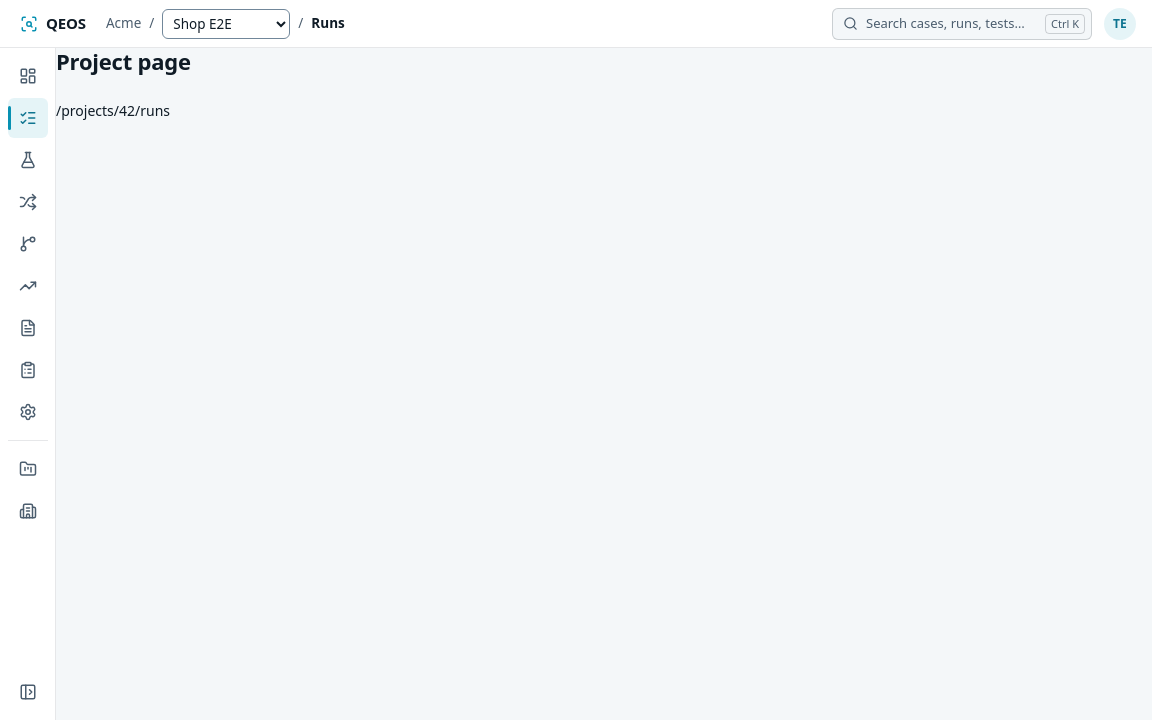
it: keyboard navigation › arrows, Home and End move the active option; Enter opens it
Click the button "Search cases, runs, tests… Ctrl K" at (962,24), box [832,8,1092,40]
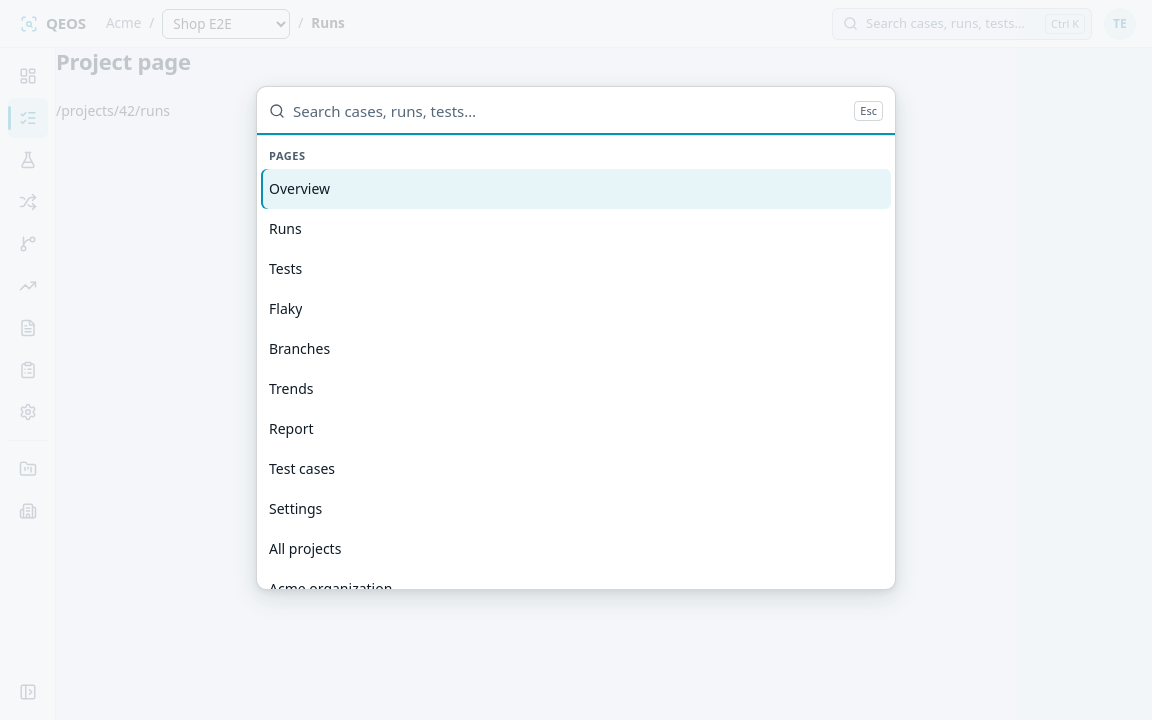
Press Arrowdown
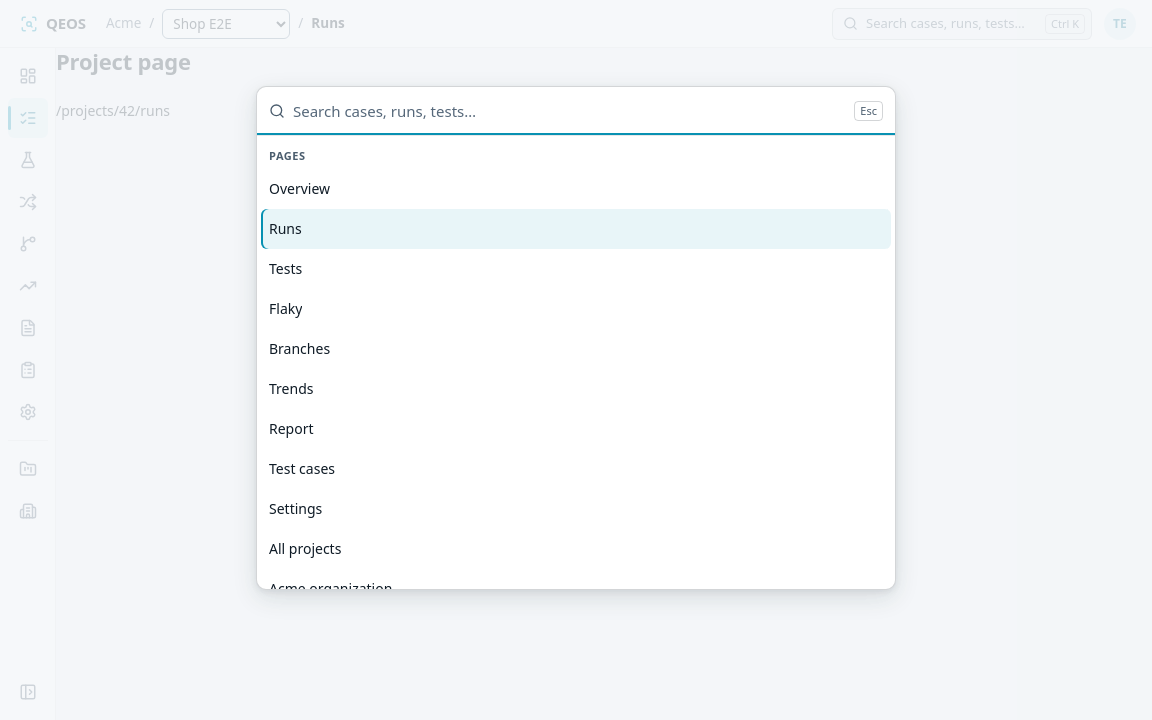
Press Arrowup Arrowup
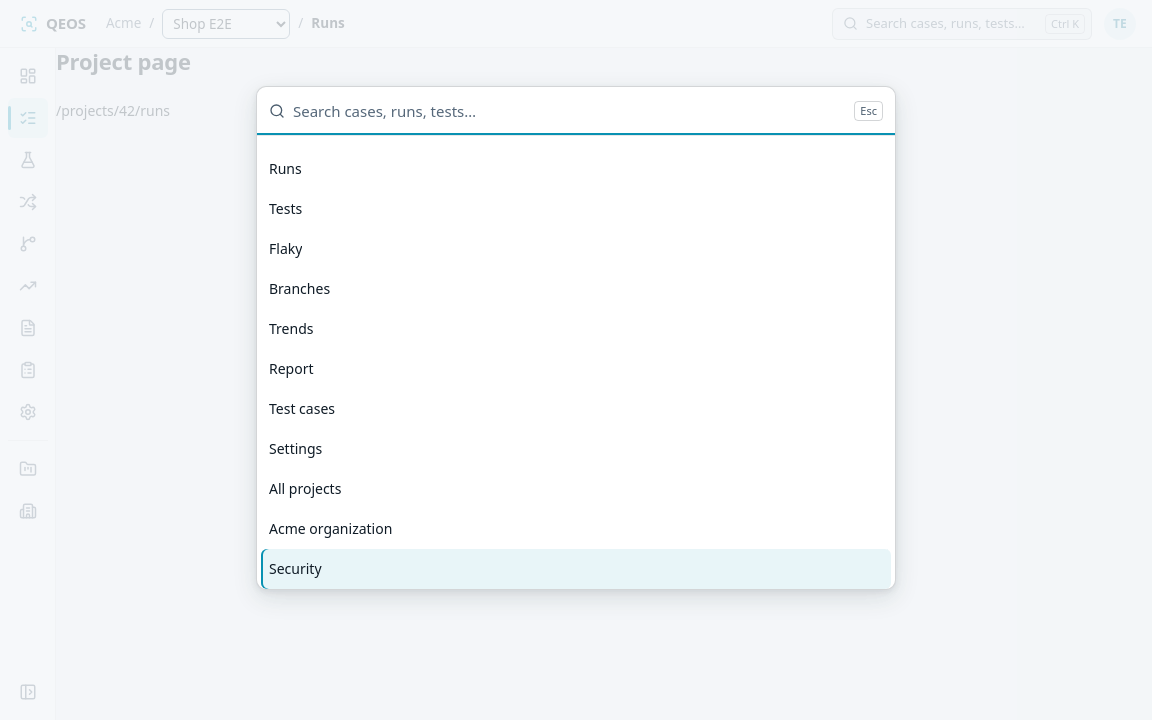
Press Home
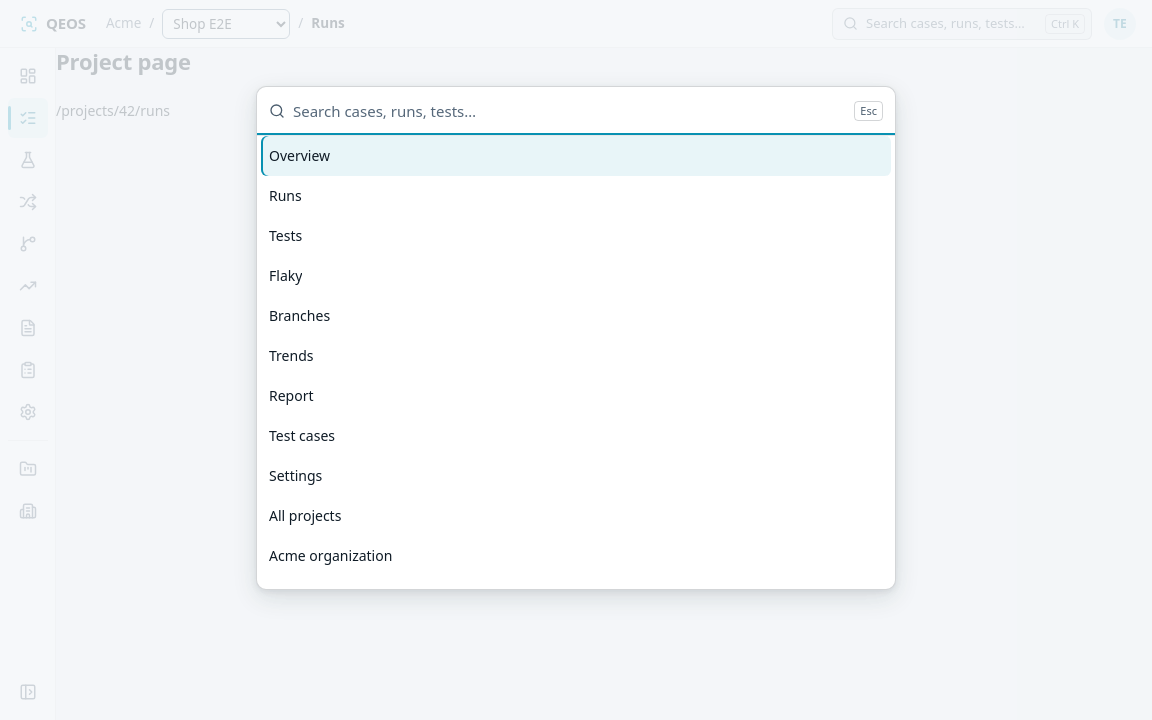
Press End
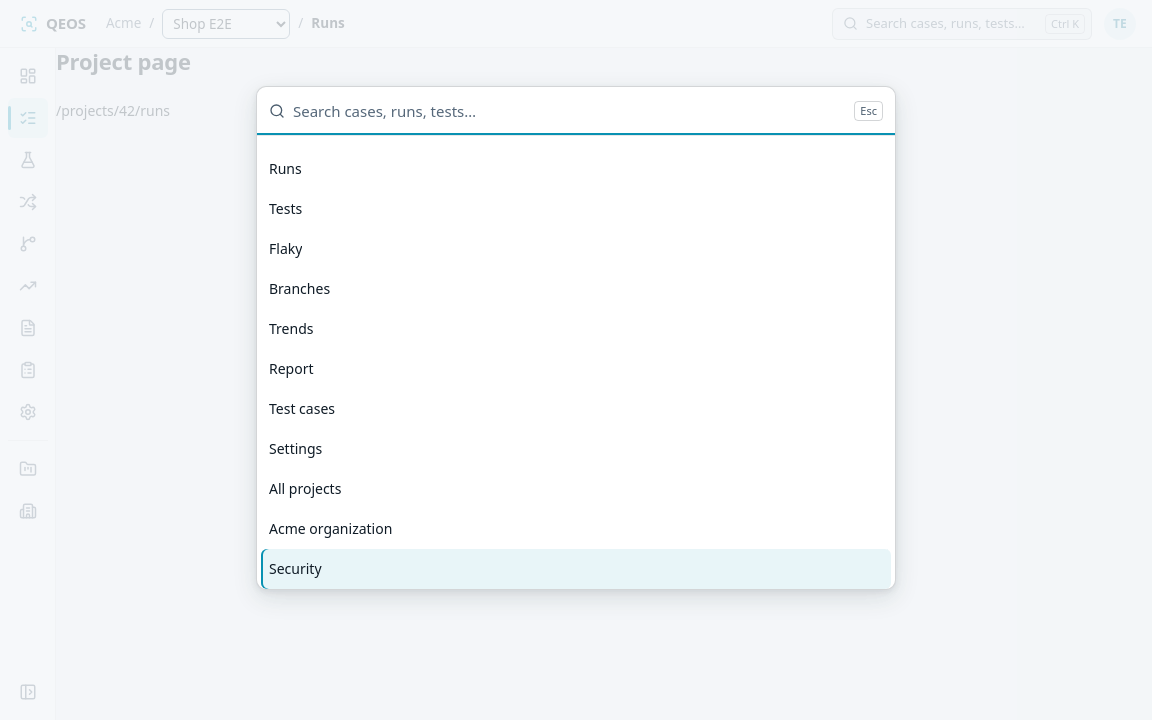
Press Home Arrowdown Enter
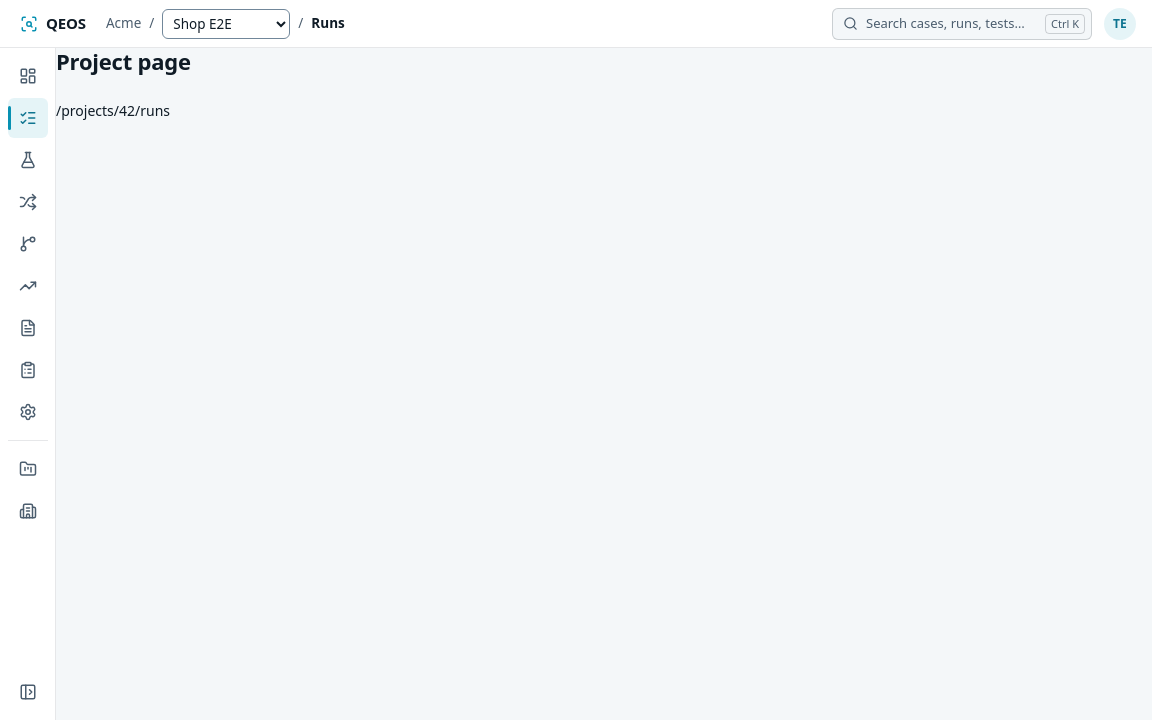
Check: the text with test id "where" reads "/projects/42/runs", box [56,100,170,120]
Check: the dialog is gone
